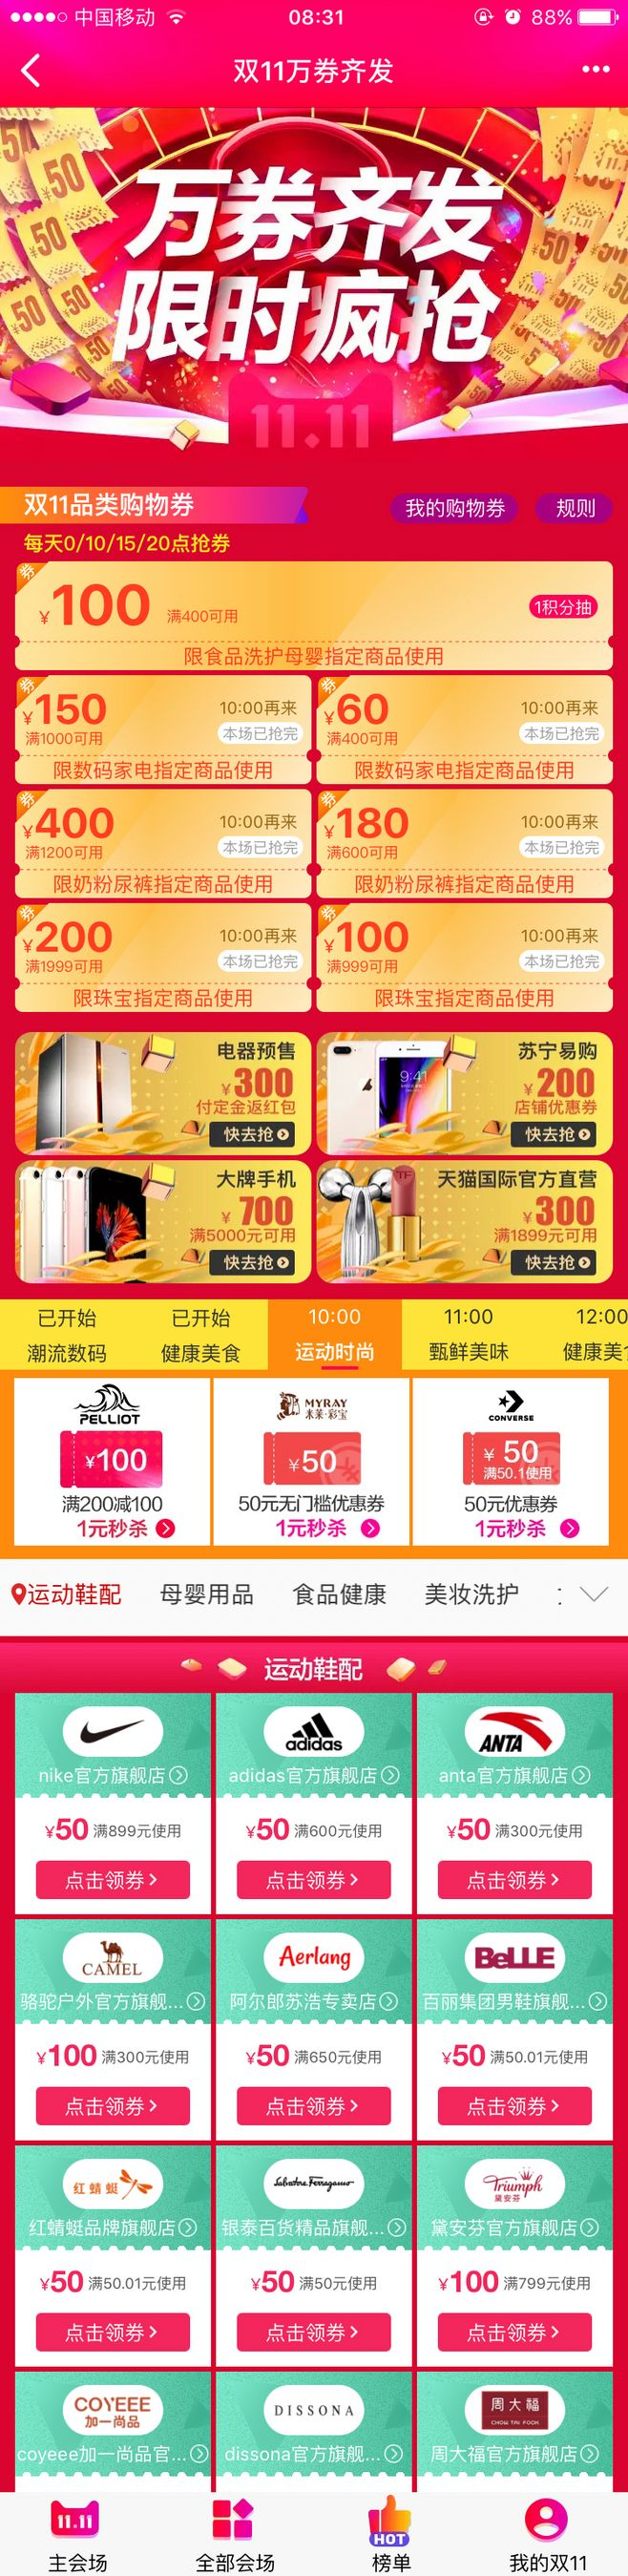floors: (2, 1645, 628, 2374), (2, 480, 628, 1015), (2, 1025, 628, 1286), (2, 1296, 628, 1552)
toutu: (2, 108, 628, 455)
